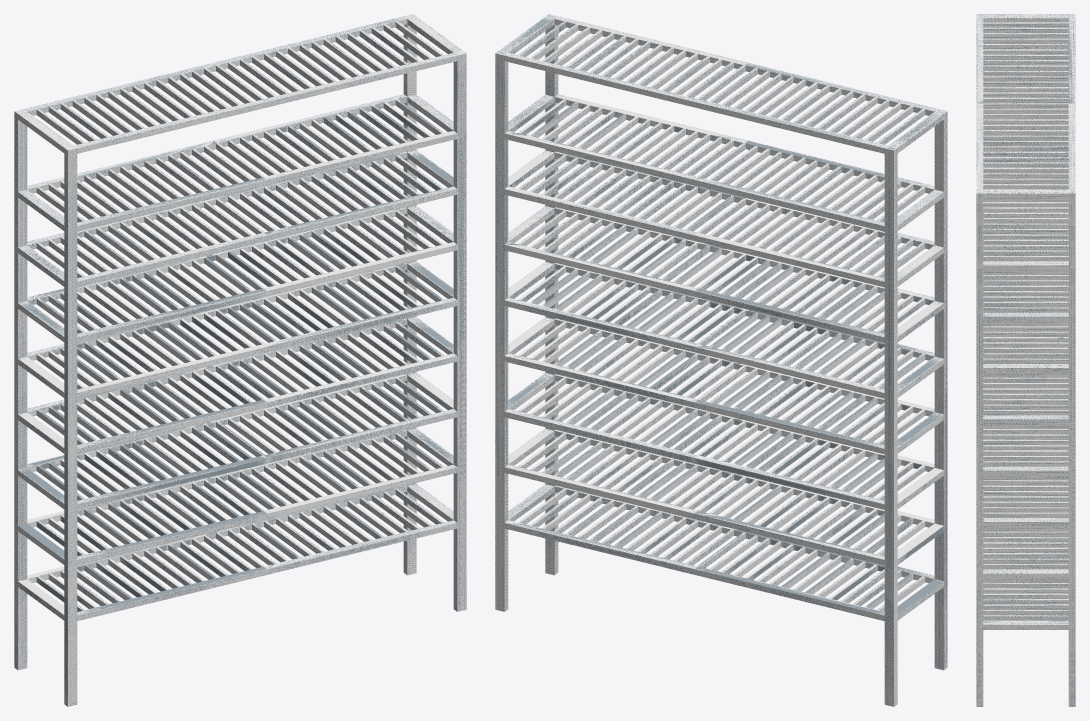
The model's file is tray.fbx.
The picture shows the model from 3 angles, left to right: view 1: azimuth 30°, elevation 25°; view 2: azimuth 150°, elevation 25°; view 3: azimuth 270°, elevation 25°; orthographic projection. The views are drawn at different scales.
Parts seen in each view (by area): view 1: Model, Group10, Group7, Group3, Group2, Group11, Group8, Group1, Group9, Group5, Group6; view 2: Model, Group10, Group7, Group3, Group2, Group11, Group8, Group1, Group9, Group5, Group6; view 3: Group6, Group5, Model, Group10, Group1, Group2, Group3, Group7, Group8, Group9, Group11.
Part boxes in pixels (x1,y1,x2,y2): Model: (14, 14, 466, 706); Group10: (18, 94, 457, 231); Group7: (18, 261, 457, 398); Group3: (18, 484, 457, 620); Group2: (18, 373, 457, 509); Group11: (18, 206, 457, 342); Group8: (18, 150, 457, 287); Group1: (18, 428, 457, 565); Group9: (18, 317, 457, 454); Group5: (18, 62, 267, 153); Group6: (214, 16, 462, 107); Model: (495, 14, 947, 706); Group10: (504, 94, 943, 231); Group7: (504, 261, 943, 398); Group3: (504, 484, 943, 620); Group2: (504, 373, 943, 509); Group11: (504, 206, 943, 342); Group8: (504, 150, 943, 287); Group1: (504, 428, 943, 565); Group9: (504, 317, 943, 454); Group5: (694, 62, 943, 153); Group6: (499, 16, 747, 107); Group6: (976, 103, 1075, 198); Group5: (976, 14, 1075, 103); Model: (976, 14, 1075, 706); Group10: (983, 198, 1068, 270); Group1: (983, 527, 1068, 578); Group2: (983, 476, 1068, 527); Group3: (983, 578, 1068, 629); Group7: (983, 373, 1068, 424); Group8: (983, 270, 1068, 321); Group9: (983, 424, 1068, 475); Group11: (983, 322, 1068, 373).
Bounding box in the file's own units: 1.5 × 2 × 0.35.
